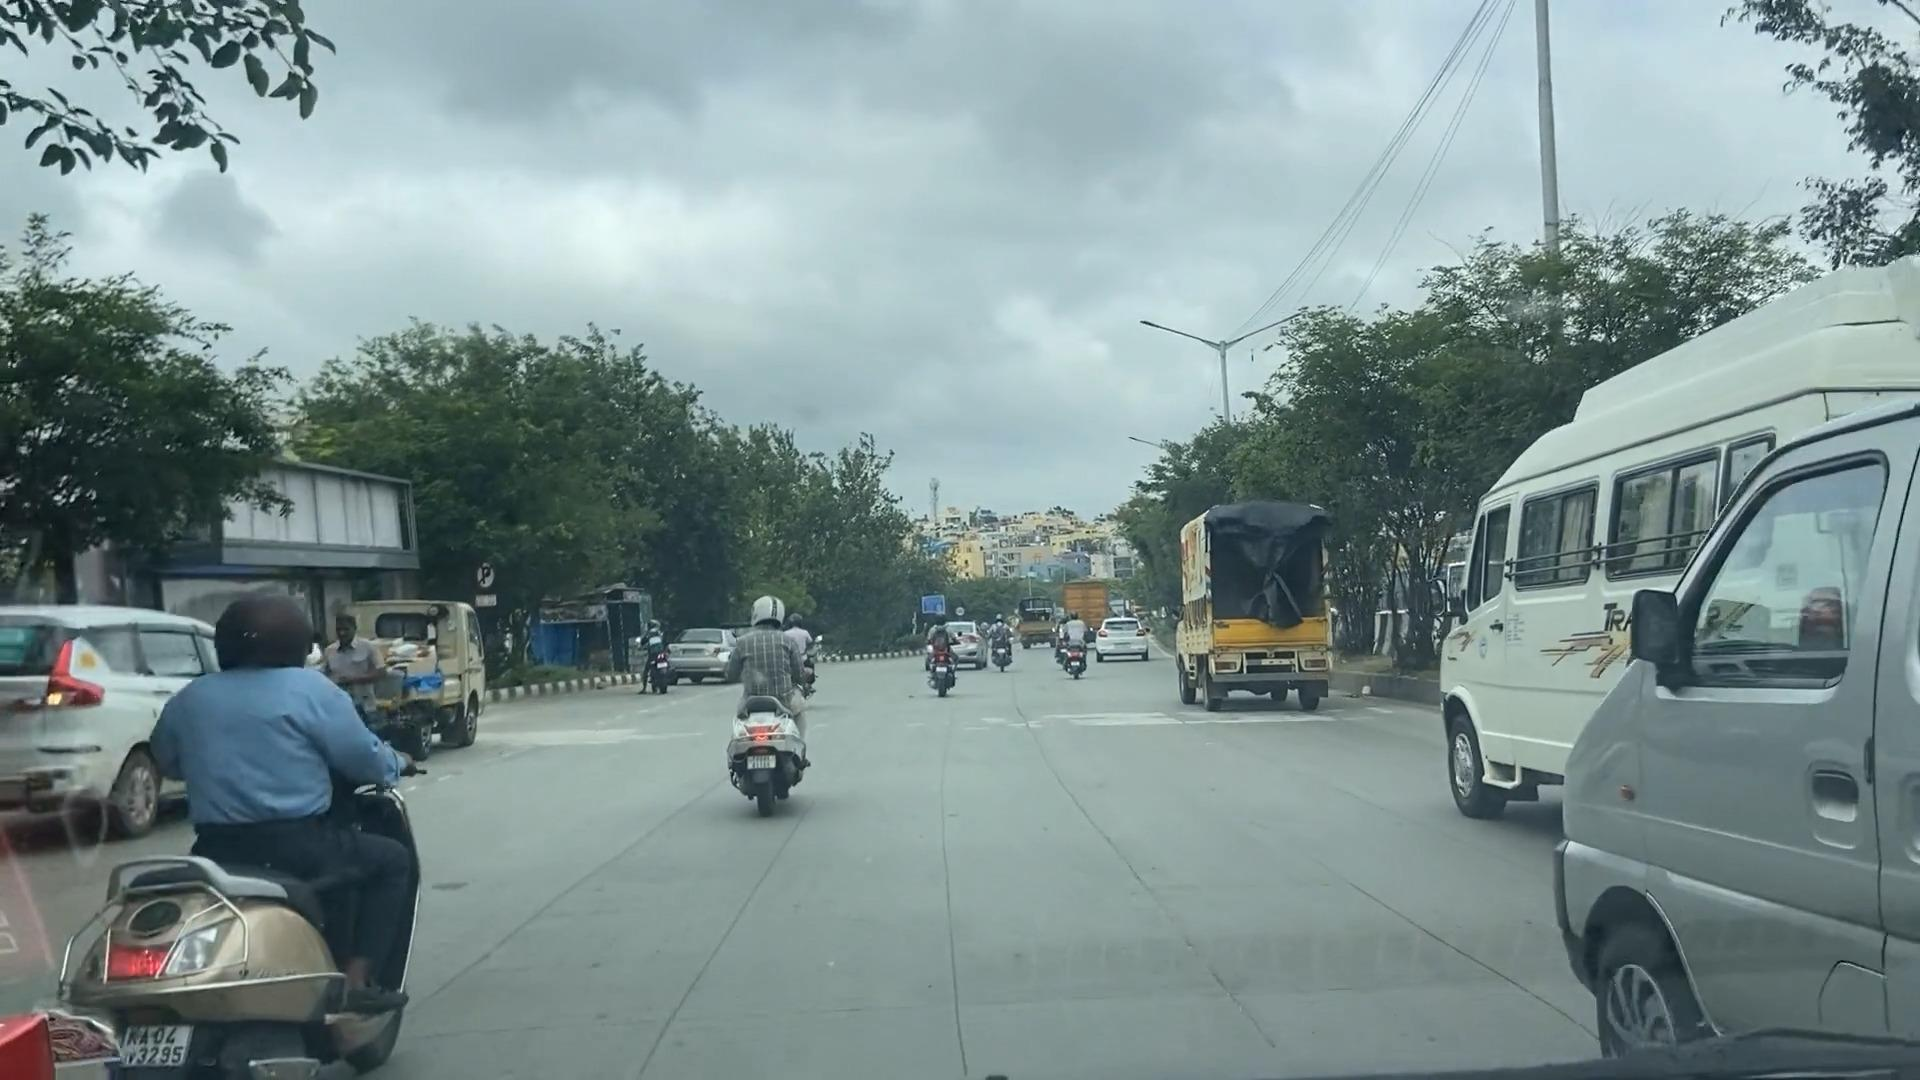HMV: (1456, 404, 1609, 827), (1153, 502, 1349, 724)
LMV: (103, 597, 451, 1080), (717, 588, 819, 811)
